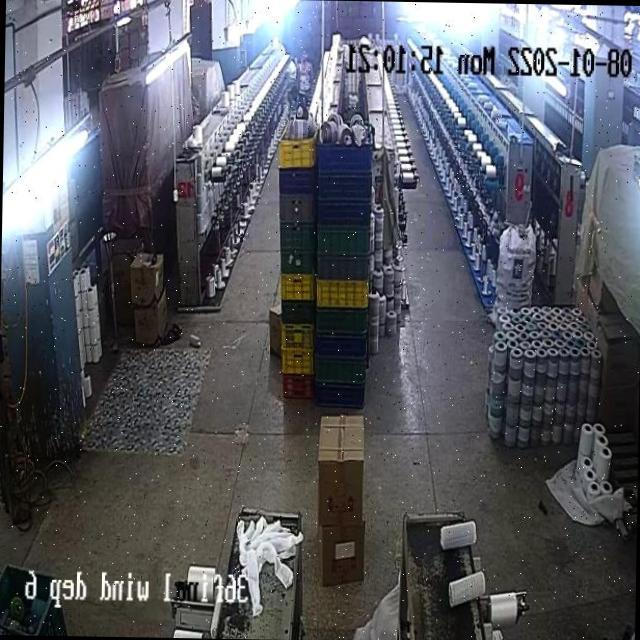person: (298, 50, 312, 95), (281, 86, 293, 124)
